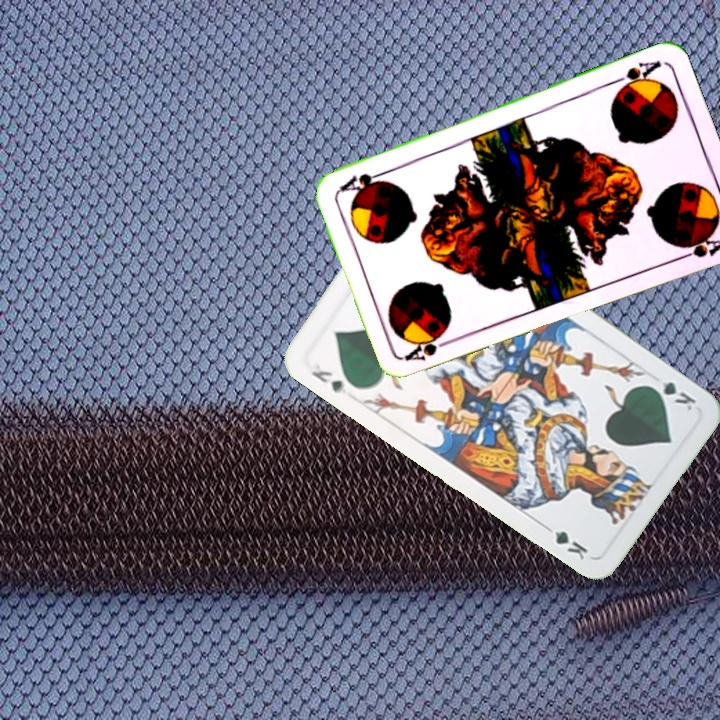GK: (643, 375, 699, 414), (307, 366, 350, 397)
SA: (607, 56, 664, 96), (401, 332, 459, 364)
